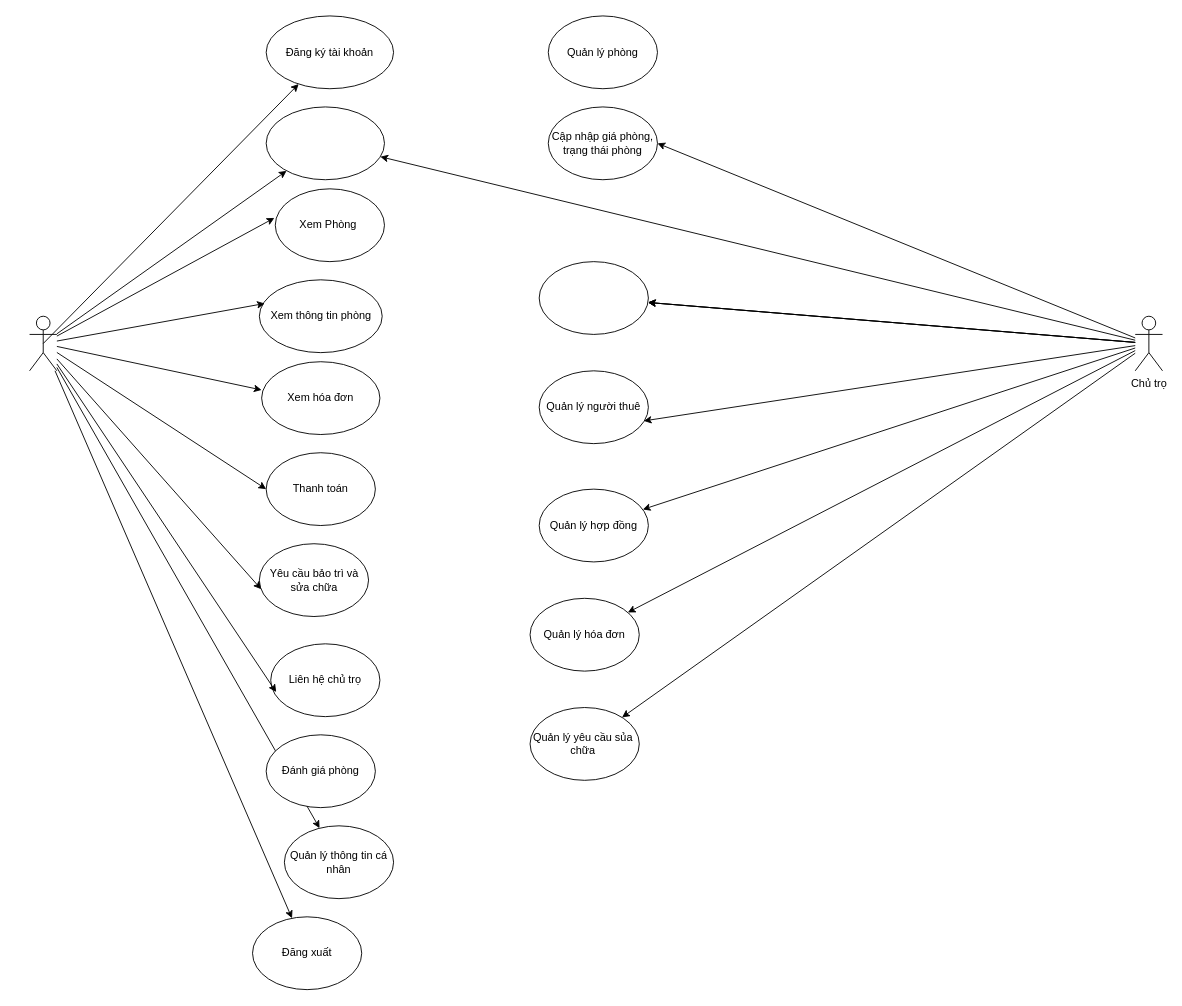
This 1182x1006 diagram has some shape labels left out. Each missing label, with the box of its shape:
Người thuê: (29, 315, 57, 371)
Quản lý giá phòng: (538, 261, 648, 334)
Đăng nhập: (265, 106, 384, 180)
